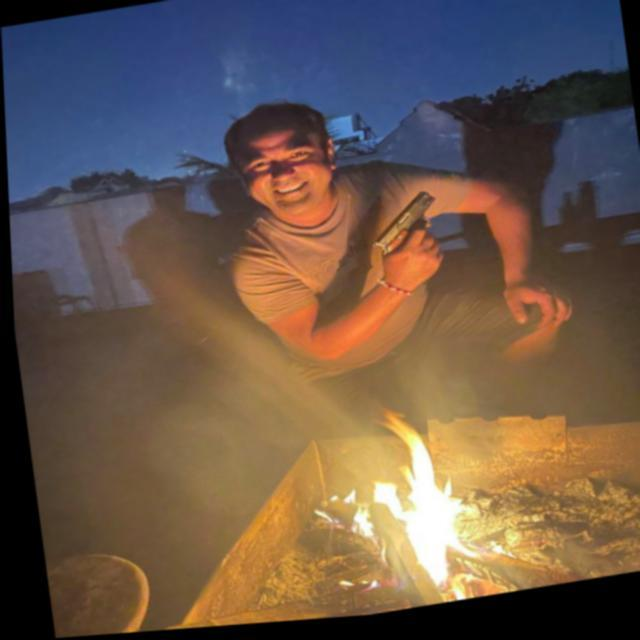weapon: (352, 192, 446, 284)
